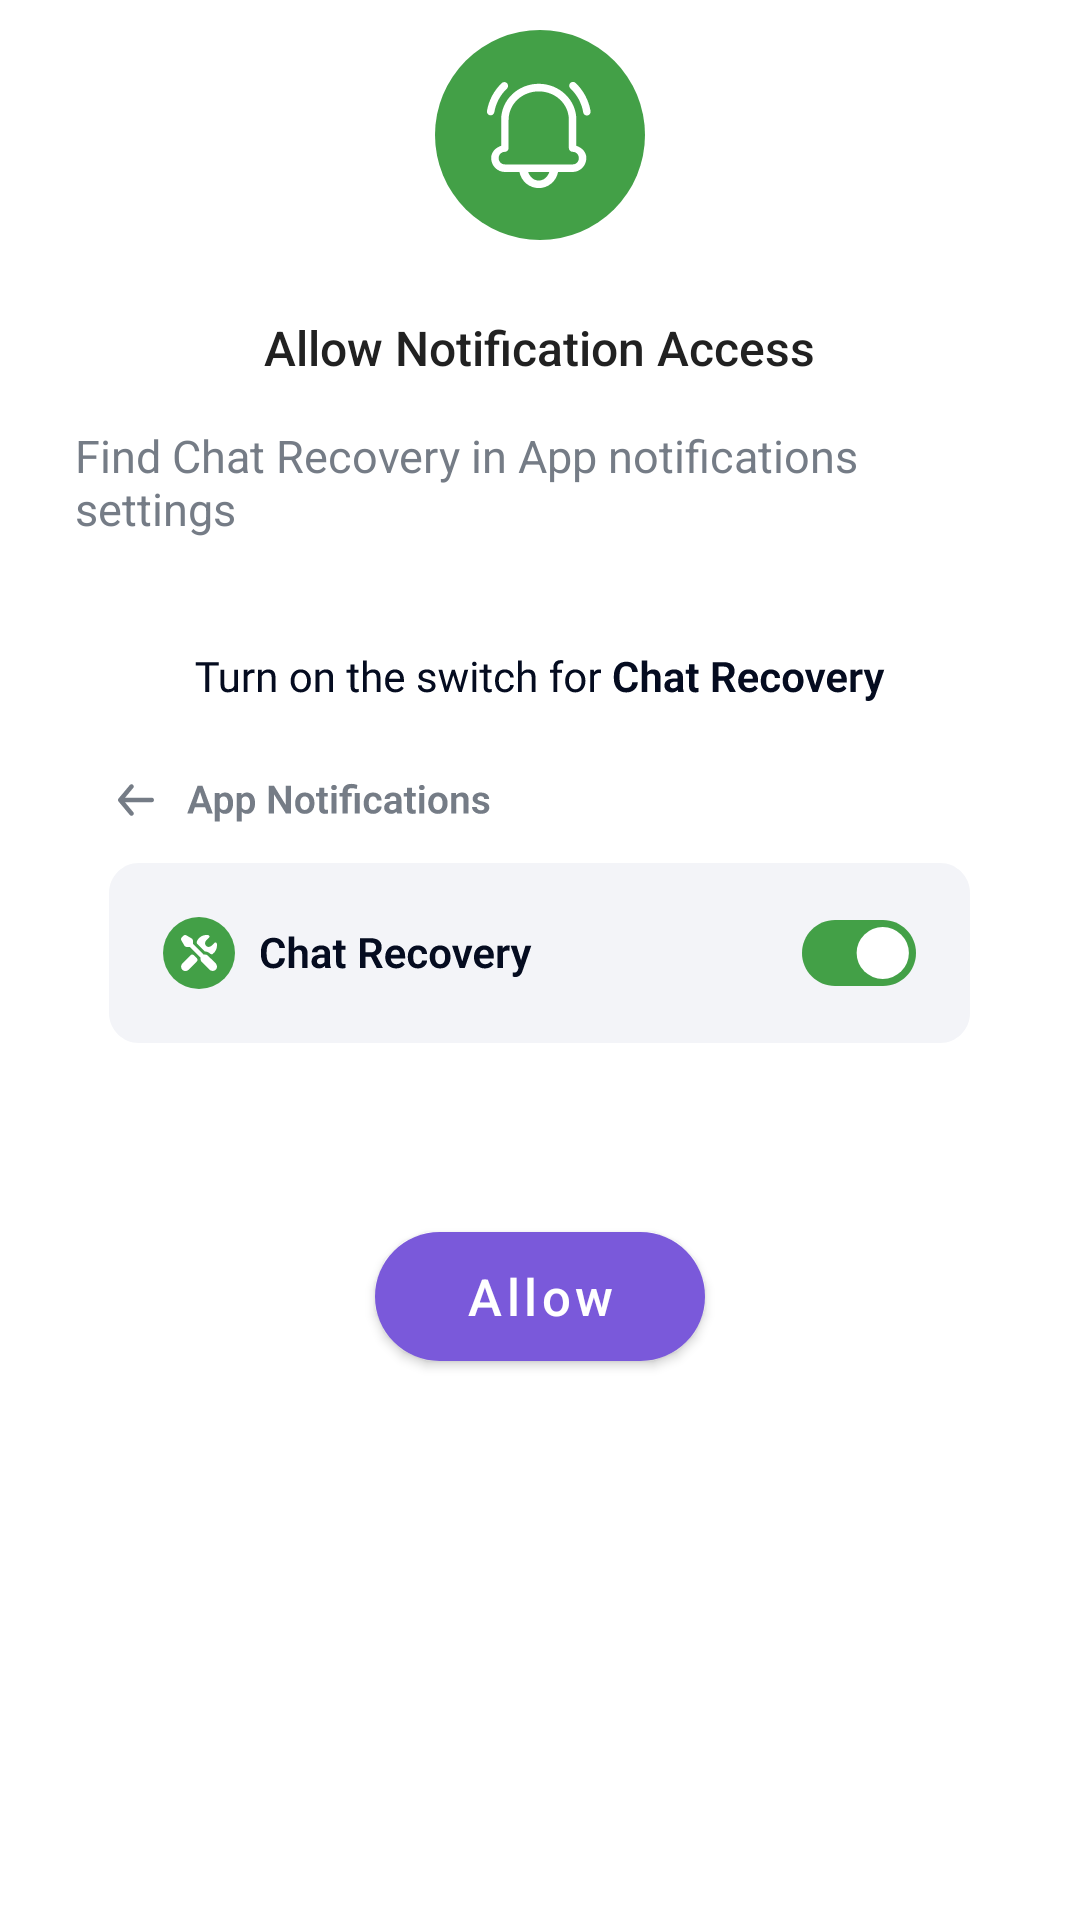

Where icons sit on this 1080*1920 app screen, as (x1, y1, x2, y2):
permission notification: (435, 30, 645, 240)
